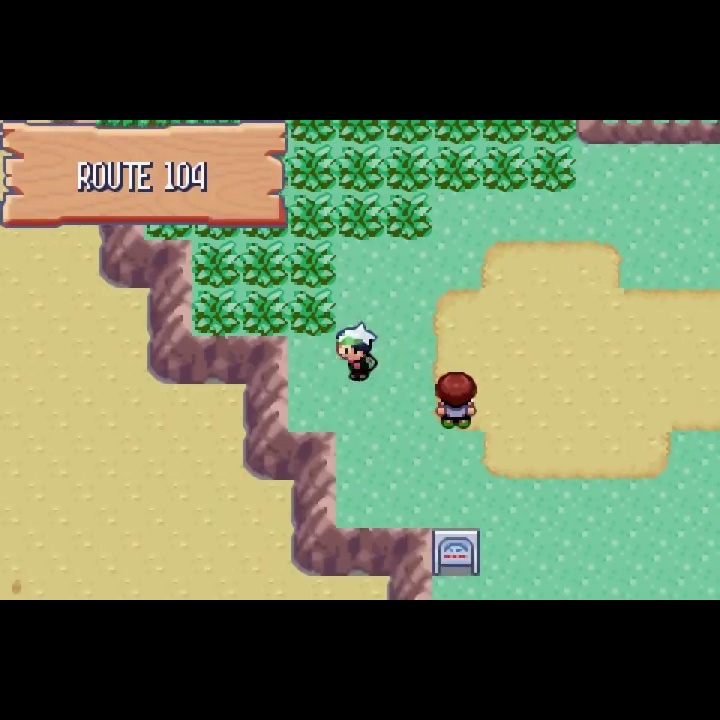grass: (480, 143, 531, 194), (385, 191, 434, 242), (336, 192, 387, 240), (240, 240, 289, 289), (290, 191, 338, 241), (239, 288, 290, 335), (385, 144, 433, 193), (433, 144, 481, 193), (290, 144, 339, 192), (290, 240, 337, 289), (289, 288, 337, 335), (193, 241, 241, 288), (338, 144, 385, 192), (193, 287, 240, 334), (530, 144, 575, 192), (433, 120, 484, 145), (337, 119, 386, 145), (387, 120, 434, 145), (482, 120, 530, 144), (290, 121, 338, 144), (531, 120, 575, 144)
npc: (332, 320, 381, 385), (431, 371, 480, 431)
